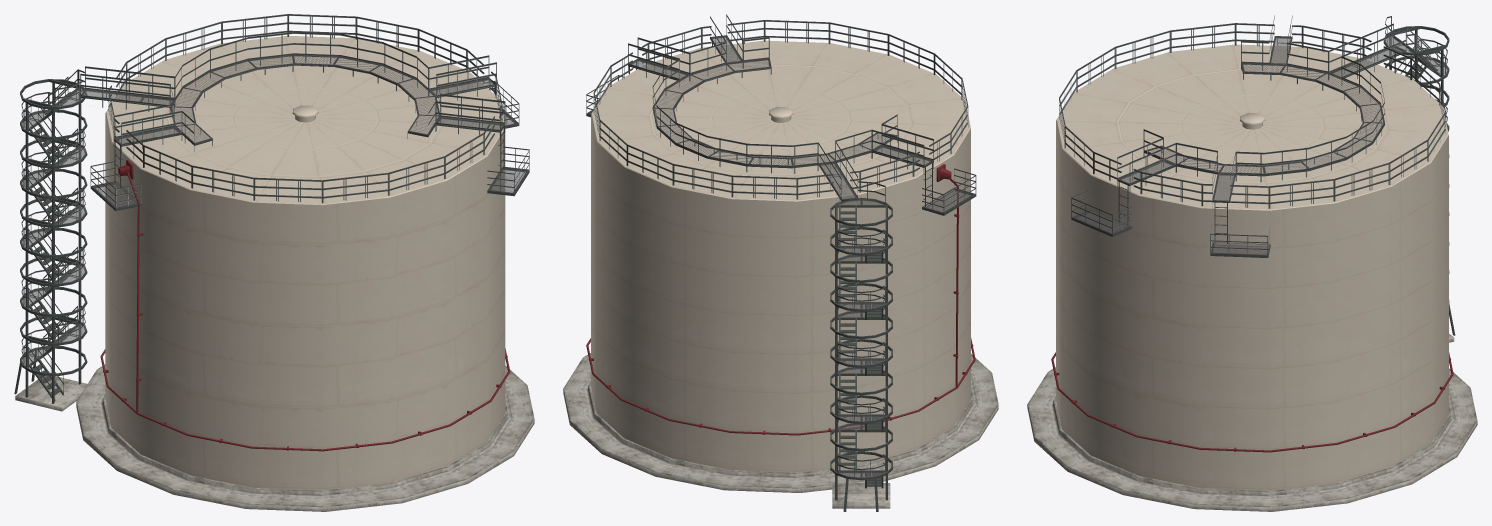
File: plant-building25.glb
The picture shows the model from 3 angles, left to right: view 1: azimuth 30°, elevation 25°; view 2: azimuth 150°, elevation 25°; view 3: azimuth 270°, elevation 25°; orthographic projection. The views are drawn at different scales.
Parts seen in each view (by area): view 1: Object8936662; view 2: Object8936662; view 3: Object8936662.
Boxes of the visible parts, <box> form: Object8936662: <box>14,14,534,511</box>; Object8936662: <box>563,14,998,511</box>; Object8936662: <box>1027,15,1477,511</box>.
Size of the model in its own units: 19.64 by 15.26 by 19.44.
1 material, 1 textured.
